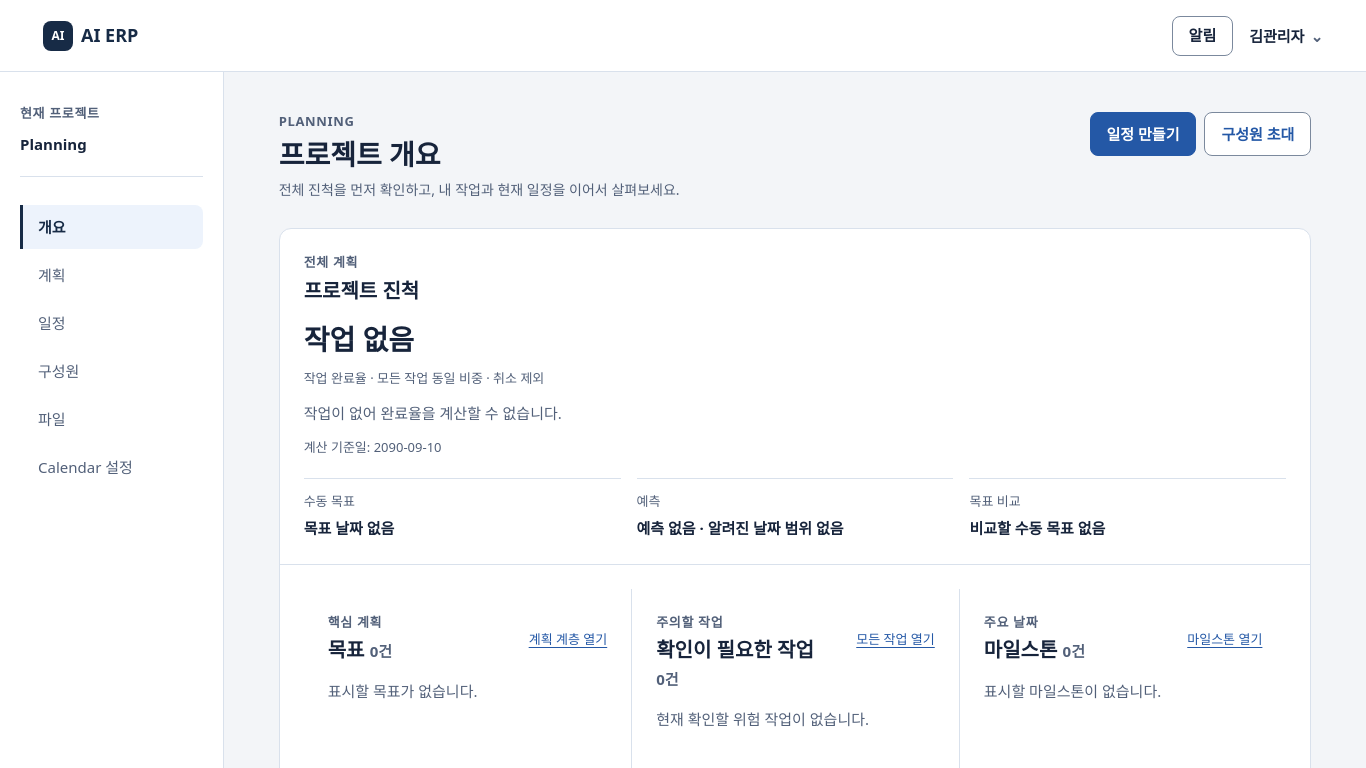
notification popup follows validated schedule links and direct route retains full content
The image size is (1366, 768).
Expected: the heading "프로젝트 개요" is shown, [279,134,440,172]
Click the button "알림" at [1202, 36], box [1172,16,1233,56]
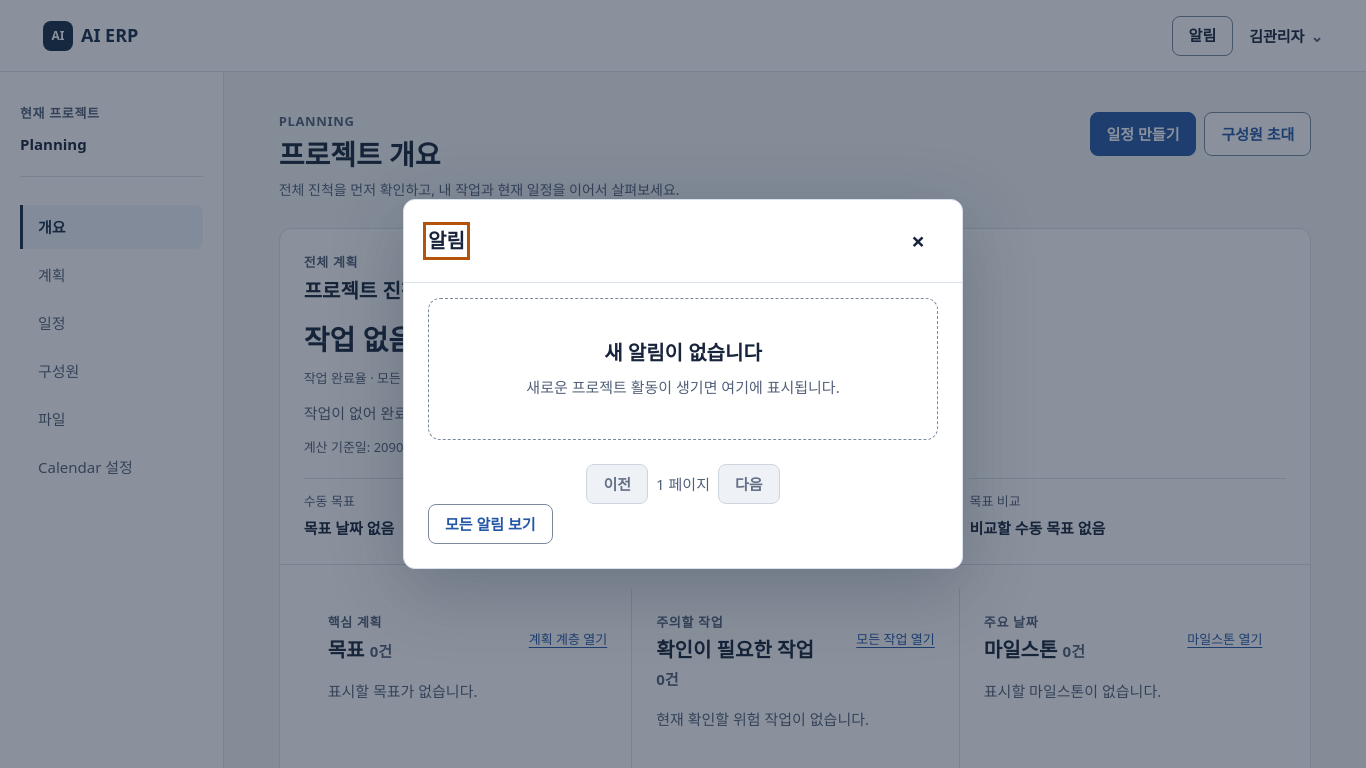
Expected: the dialog "알림" is shown, [403,199,963,569]
Click the link "모든 알림 보기" at [490, 524], box [428,504,553,544]
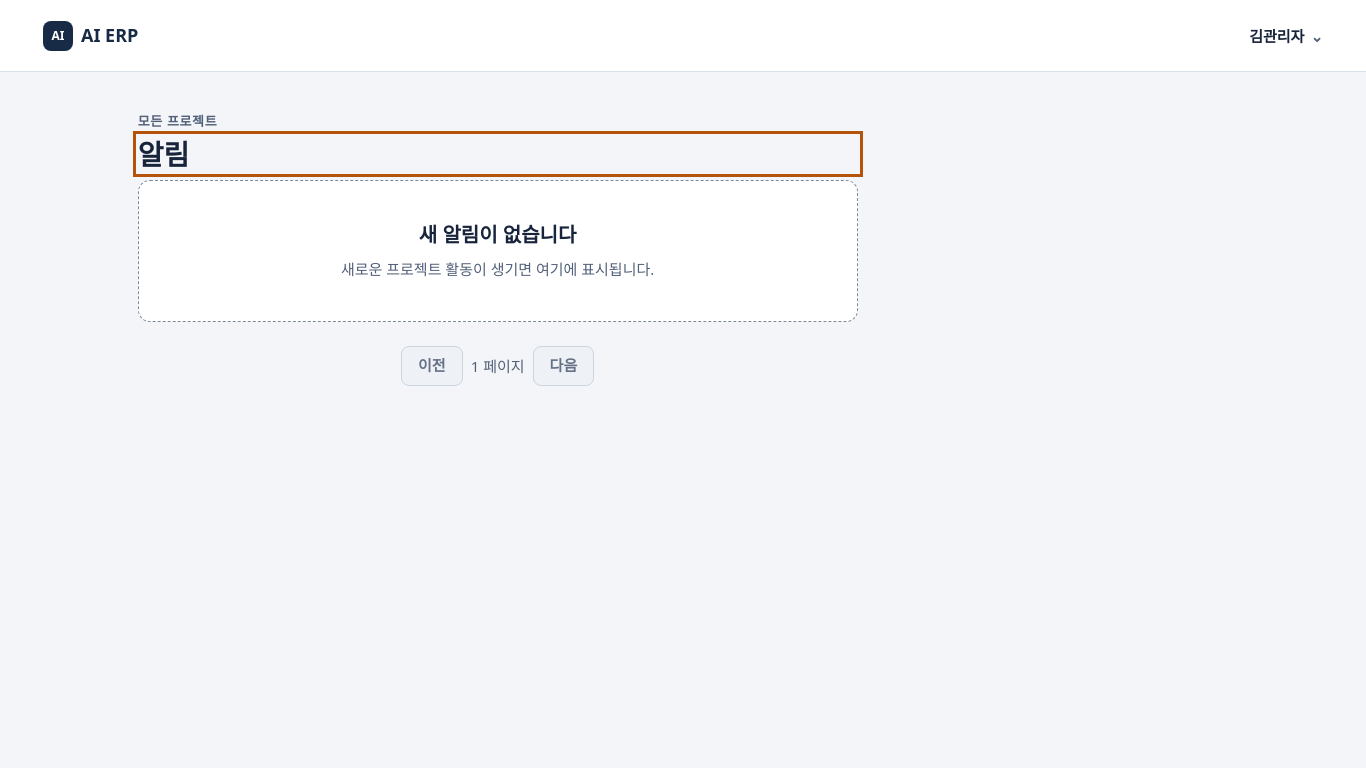
Expected: the heading "새 알림이 없습니다" is shown, [419,221,576,248]
Expected: the heading "알림" is shown, [138,134,189,172]
